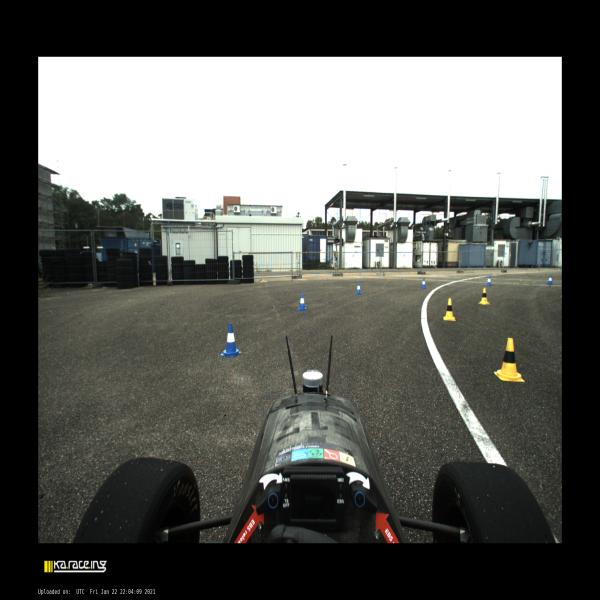blue_cone: (220, 323, 241, 357), (298, 293, 306, 311), (354, 282, 363, 295), (546, 274, 554, 284), (486, 276, 492, 286), (421, 278, 426, 289)
yellow_cone: (494, 338, 525, 382), (443, 298, 455, 321), (478, 288, 490, 305)
